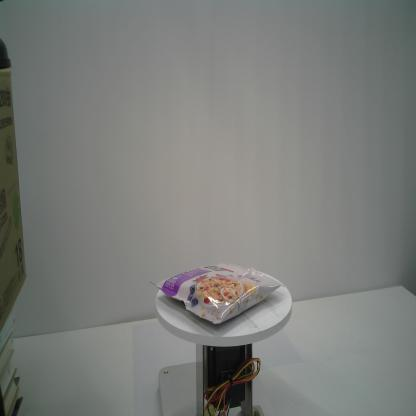Instant Drink: (150, 261, 286, 325)
